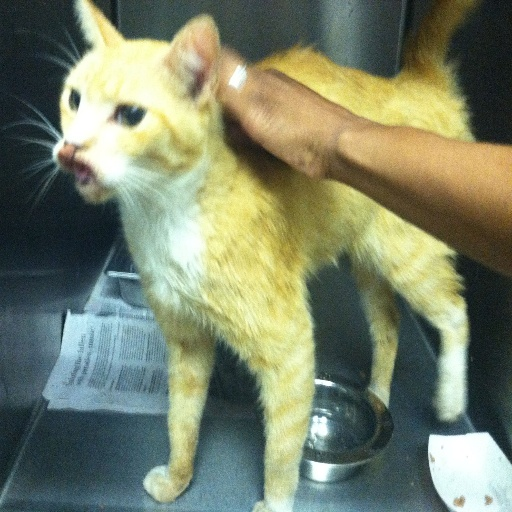hand: (237, 40, 479, 244)
